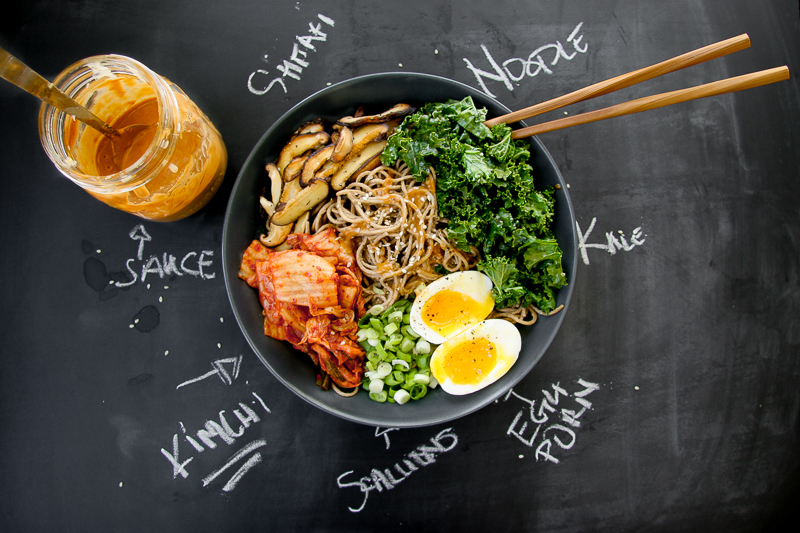Soba: (314, 154, 499, 322)
